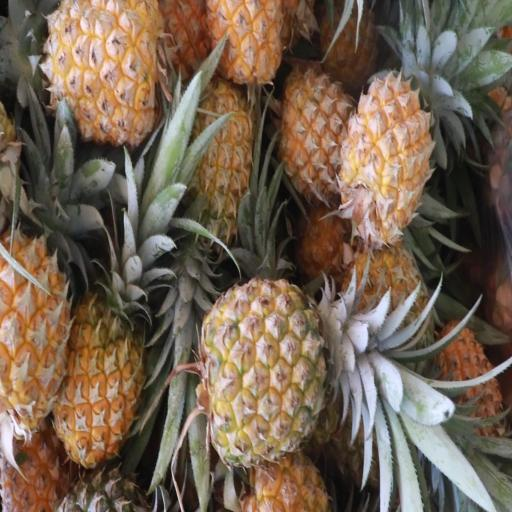------------------------------: (197, 277, 395, 468)
Pineapple - v8 v1: (58, 215, 156, 481), (24, 0, 169, 148), (338, 49, 444, 245), (180, 76, 259, 236), (277, 53, 351, 194)
